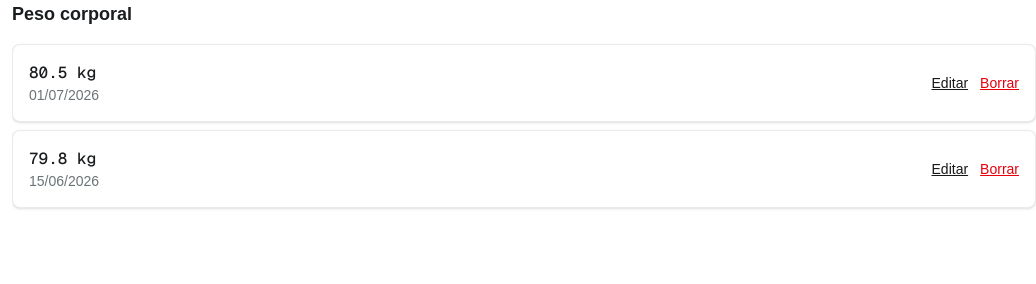
Test: WeightHistorySection › muestra el formulario de edición prefilled al pulsar Editar, y vuelve a la lista al pulsar Cancelar
Step 1. Click the button "Editar" in the row of "01/07/2026" → (950, 83), box left=932, top=73, right=968, bottom=93
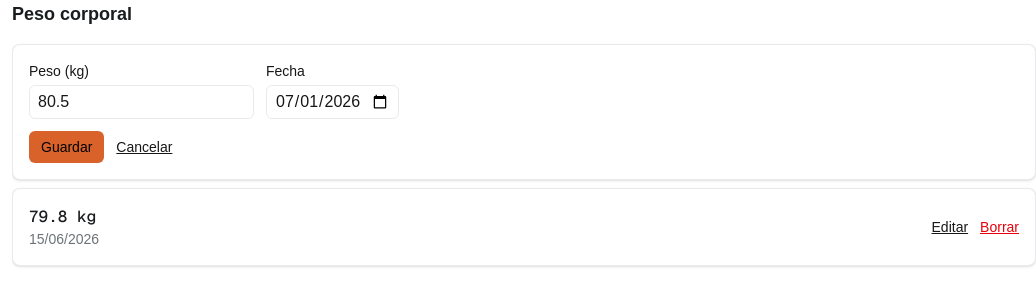
Check: the number field labelled "Peso (kg)" holds "80.5", box left=29, top=85, right=254, bottom=119
Check: the date field labelled "Fecha" holds "2026-07-01", box left=266, top=85, right=399, bottom=119
Step 2. Click the button "Cancelar" → (144, 147), box left=116, top=131, right=172, bottom=163
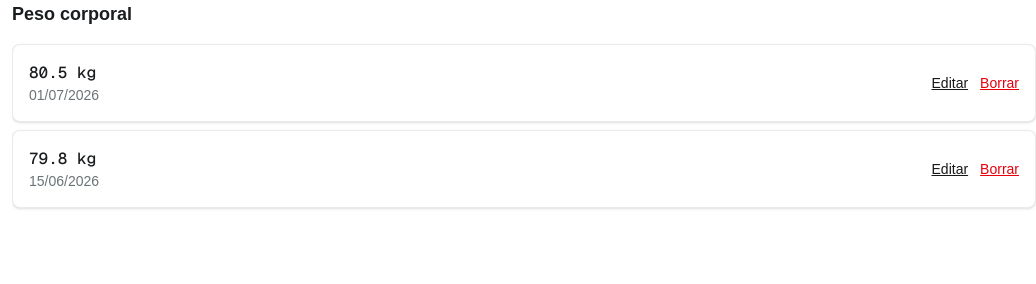
Check: the text "80.5 kg" is shown, box left=29, top=61, right=99, bottom=85
